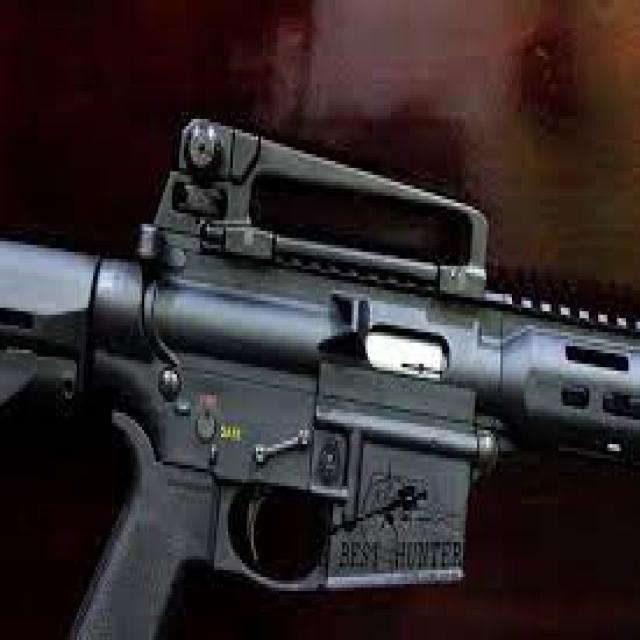m16: (39, 85, 572, 616)
